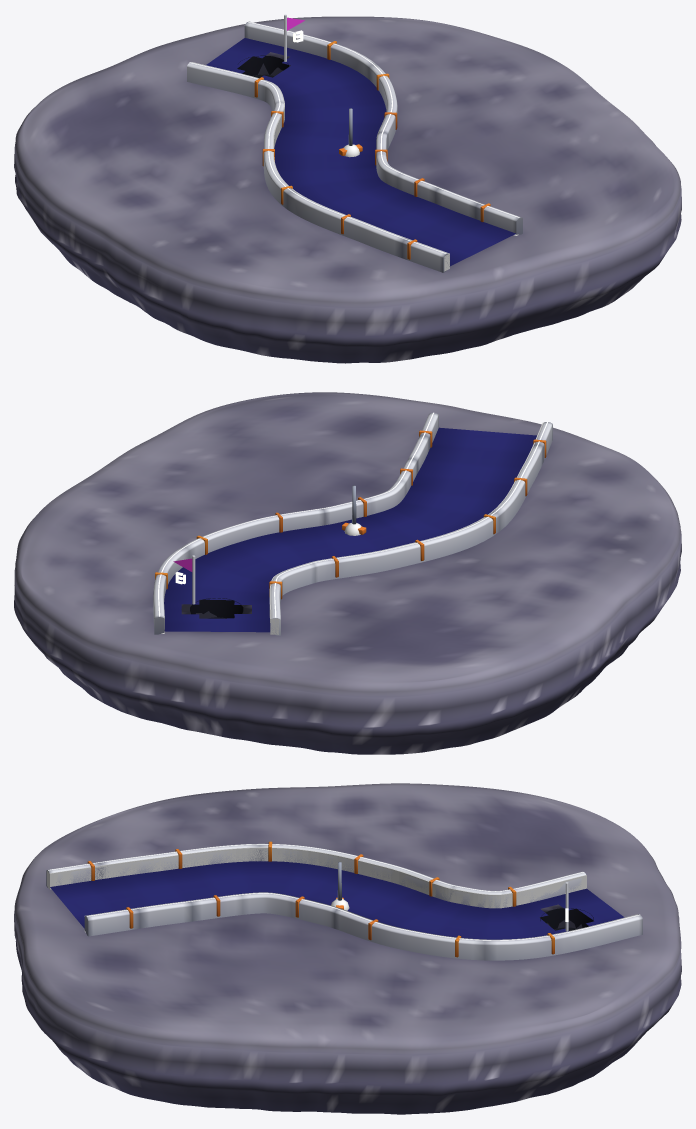
Rendered from course-13.glb.
The picture shows the model from 3 angles, top to bottom: view 1: azimuth 30°, elevation 25°; view 2: azimuth 150°, elevation 25°; view 3: azimuth 270°, elevation 25°; orthographic projection. The views are drawn at different scales.
Visible parts, largest first — view 1: scenery-matte.012, surface-grass, rail-trim-left, rail-trim-right, rail-left; view 2: scenery-matte.012, surface-grass, rail-trim-left, rail-trim-right, rail-left; view 3: scenery-matte.012, surface-grass, rail-trim-right, rail-left, rail-trim-left, rail-right.
Boxes of the visible parts, <box> form: scenery-matte.012: <box>14,16,681,363</box>; surface-grass: <box>206,38,515,266</box>; rail-trim-left: <box>187,62,449,272</box>; rail-trim-right: <box>244,21,522,234</box>; rail-left: <box>192,62,449,271</box>; scenery-matte.012: <box>14,392,681,754</box>; surface-grass: <box>164,427,536,632</box>; rail-trim-left: <box>269,421,552,635</box>; rail-trim-right: <box>153,412,438,634</box>; rail-left: <box>269,422,543,634</box>; scenery-matte.012: <box>14,783,681,1114</box>; surface-grass: <box>50,861,624,939</box>; rail-trim-right: <box>84,892,642,960</box>; rail-left: <box>47,847,586,908</box>; rail-trim-left: <box>46,841,585,908</box>; rail-right: <box>84,892,637,939</box>.
Size of the model in its own units: 10.2 by 4.06 by 10.91.
